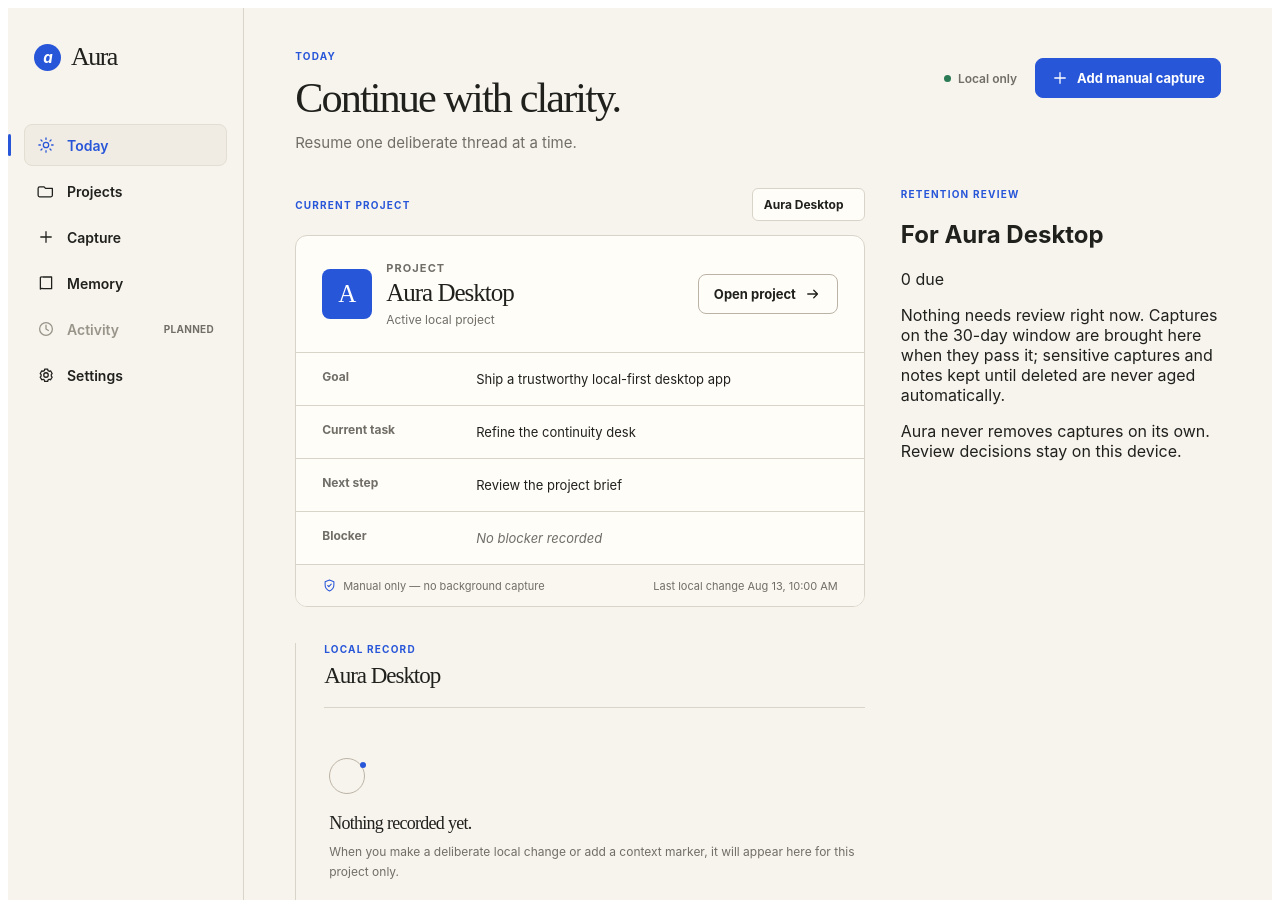
it: Aura local privacy preferences › opens the local privacy settings workspace and shows future-ready exclusion copy
Click the button "Settings".
click(126, 375)  # box [24,354,227,396]
(page scrolled)
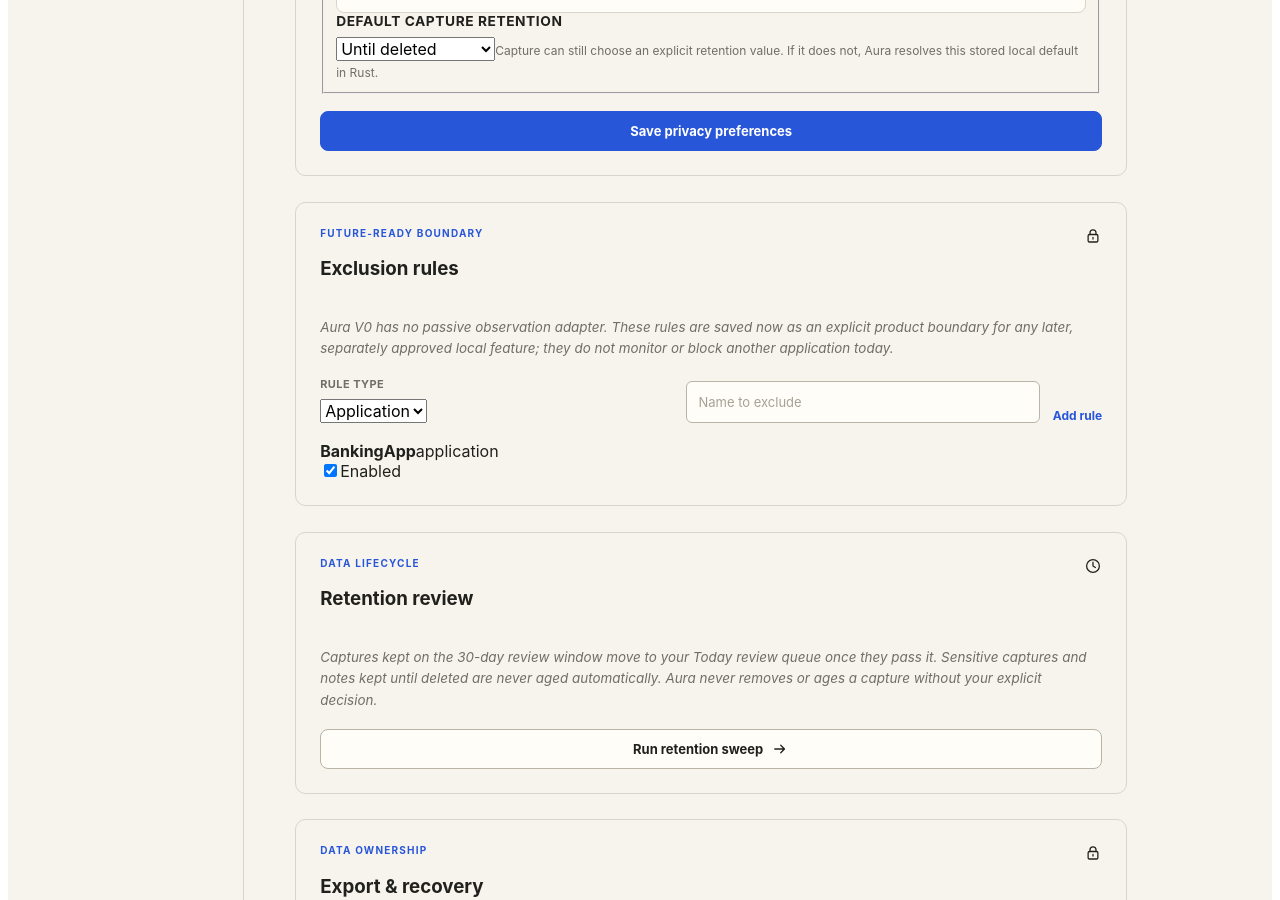
Expected: the text "Aura V0 has no passive observation adapter" is shown, [320,319,1073,356]
Expected: the text "BankingApp" is shown, [320,441,416,461]
